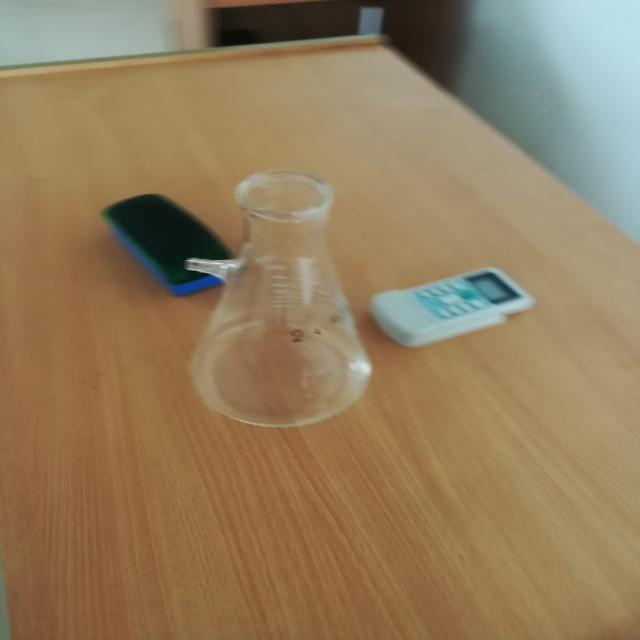Conical_Flask: (155, 113, 413, 442)
